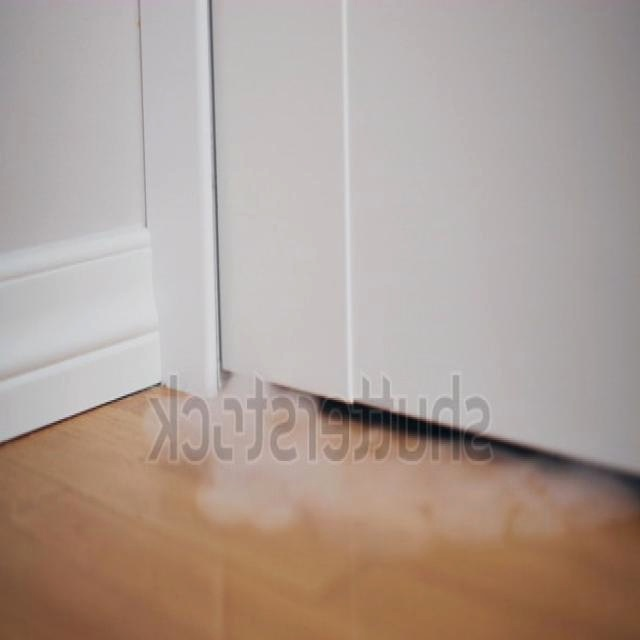smoke: (147, 366, 632, 541)
